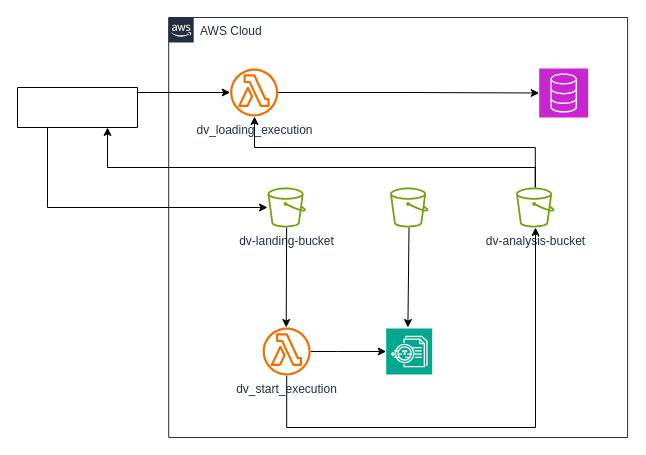
The diagram is 646 pixels wide and 455 high, and some of its shapes have lost their labels. The shapes that lost their labels are listed below. From the top down, each one's centre as x and y in pixels, then its label:
At (77,107): "Local Home Page".
At (563,93): "Database".
At (409,207): "dv-metadata-bucket".
